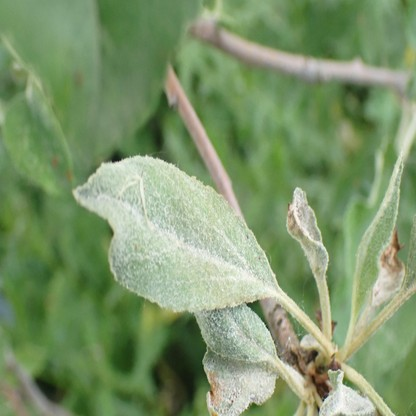powder: (72, 157, 281, 310), (195, 304, 277, 413), (353, 151, 404, 318), (286, 186, 330, 277), (319, 367, 377, 416), (405, 214, 416, 289)
